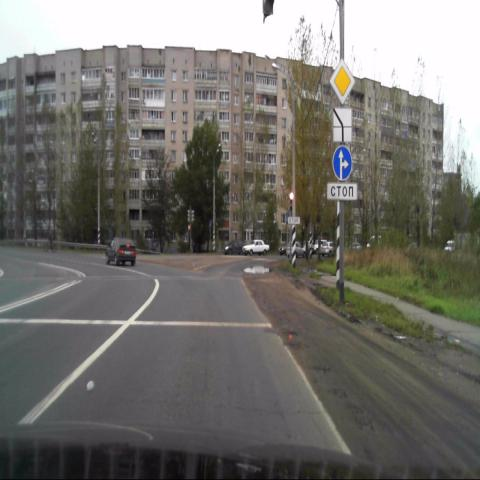2_1: (330, 58, 356, 106)
4_1_4: (332, 144, 353, 181)
6_16: (327, 183, 358, 200)
